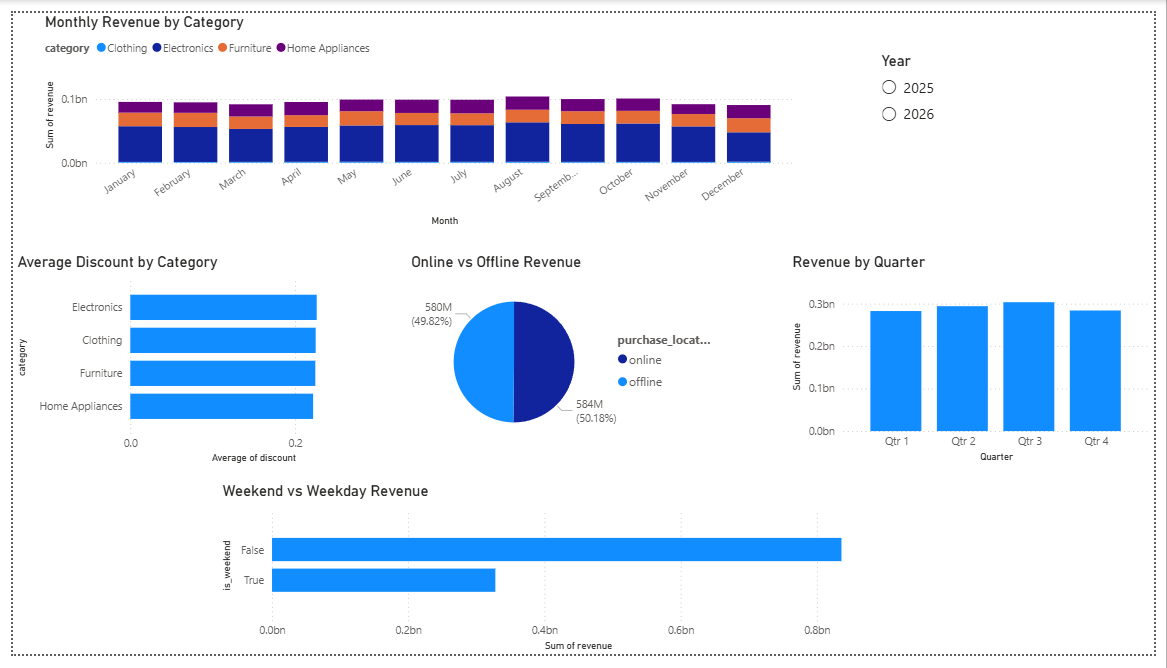

The dashboard page shown, as its layout file describes it:
{"tool":"powerbi","page":{"name":"Category Trends","canvas":[1280,720],"ordinal":2},"visuals":[{"type":"columnChart","title":"Monthly Revenue by Category","fields":{"Category":["cleaned_retail_data.transaction_date.Variation.Date Hierarchy.Month"],"Y":["Sum(cleaned_retail_data.revenue)"],"Series":["cleaned_retail_data.category"]},"box":[30.9,0,849.8,244],"z":0},{"type":"clusteredBarChart","title":"Average Discount by Category","fields":{"Category":["cleaned_retail_data.category"],"Y":["Avg(cleaned_retail_data.discount)"]},"box":[0,269.2,422.1,241.2],"z":1},{"type":"pieChart","title":"Online vs Offline Revenue","fields":{"Category":["cleaned_retail_data.purchase_location"],"Y":["Sum(cleaned_retail_data.revenue)"]},"box":[441.7,269.2,349.2,225.8],"z":2},{"type":"clusteredColumnChart","title":"Revenue by Quarter","fields":{"Y":["Sum(cleaned_retail_data.revenue)"],"Category":["cleaned_retail_data.transaction_date.Variation.Date Hierarchy.Quarter"]},"box":[869.4,269.2,410.9,239.8],"z":3},{"type":"clusteredBarChart","title":"Weekend vs Weekday Revenue","fields":{"Category":["cleaned_retail_data.is_weekend"],"Y":["Sum(cleaned_retail_data.revenue)"]},"box":[230,525.9,768.4,194.9],"z":4},{"type":"listSlicer","fields":{"Values":["cleaned_retail_data.transaction_date.Variation.Date Hierarchy.Year"]},"box":[969,43.5,161.3,157.1],"z":5}]}

Visuals, with their boxes in screenshot pixels (x1, y1, x2, y2), scaled from the page's 1280x720 canvas onto the 1167x668 screenshot:
"Monthly Revenue by Category" columnChart: {"x1": 28, "y1": 0, "x2": 803, "y2": 226}
"Average Discount by Category" clusteredBarChart: {"x1": 0, "y1": 250, "x2": 385, "y2": 474}
"Online vs Offline Revenue" pieChart: {"x1": 403, "y1": 250, "x2": 721, "y2": 459}
"Revenue by Quarter" clusteredColumnChart: {"x1": 793, "y1": 250, "x2": 1166, "y2": 472}
"Weekend vs Weekday Revenue" clusteredBarChart: {"x1": 210, "y1": 488, "x2": 910, "y2": 667}
listSlicer - cleaned_retail_data.transaction_date.Variation.Date Hierarchy.Year: {"x1": 883, "y1": 40, "x2": 1031, "y2": 186}
